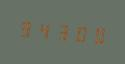four: (35, 17, 51, 42)
nine: (18, 16, 34, 41)
three: (52, 19, 68, 44)
zero: (69, 20, 85, 45), (86, 22, 102, 47)
